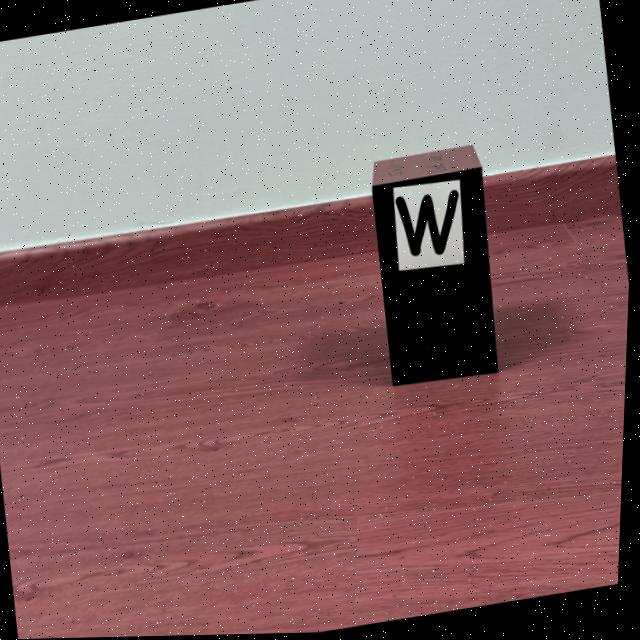W: (397, 192, 461, 258)
